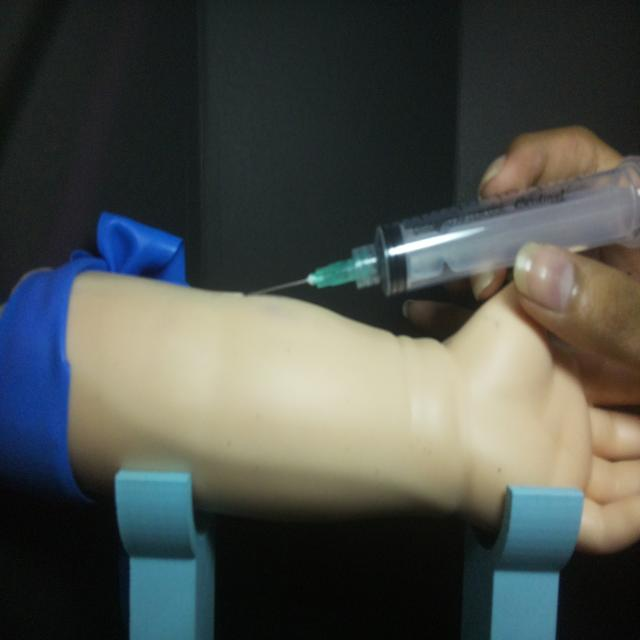19deg: (246, 152, 638, 304)
